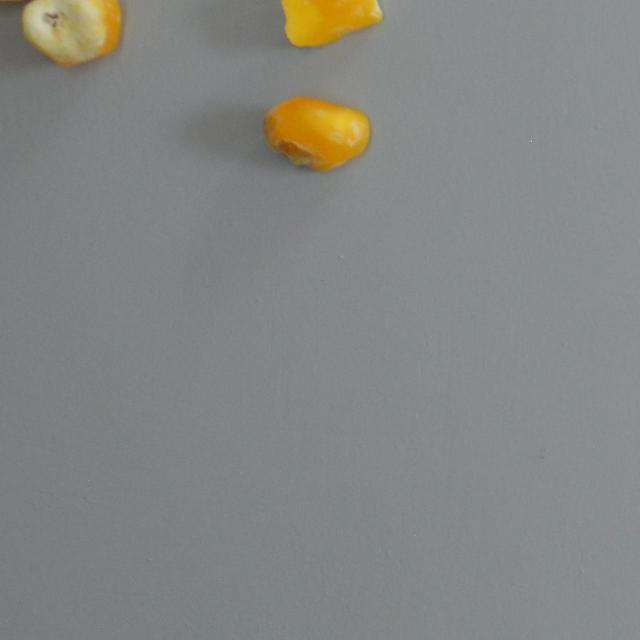dañado: (261, 95, 370, 176), (19, 0, 128, 64)
pelicula: (280, 0, 384, 56)
